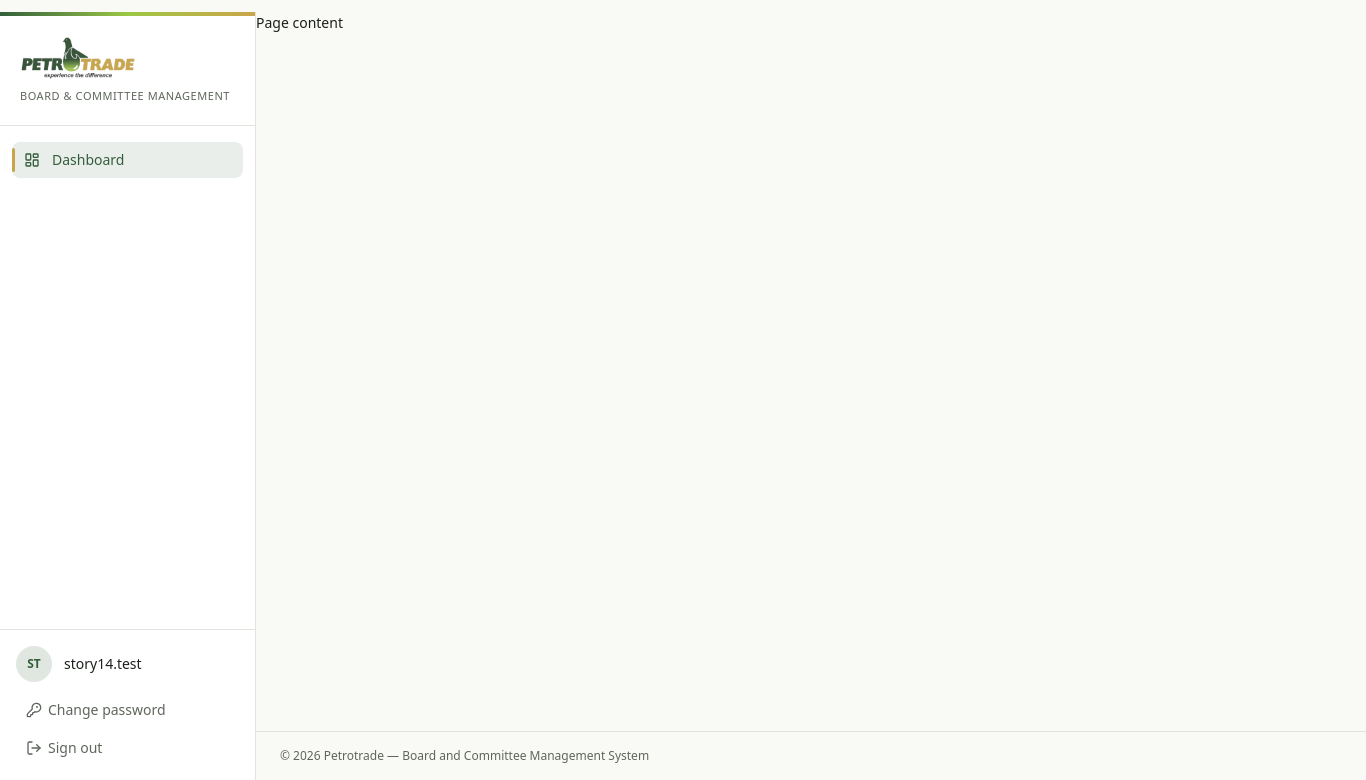
Test: AppShell › disables both buttons while a change-password redirect is in flight, and ignores a second click
The image size is (1366, 780).
Later steps or results of the test are not shown.
Click the button "Change password": {"x": 128, "y": 710} [16, 694, 239, 726]
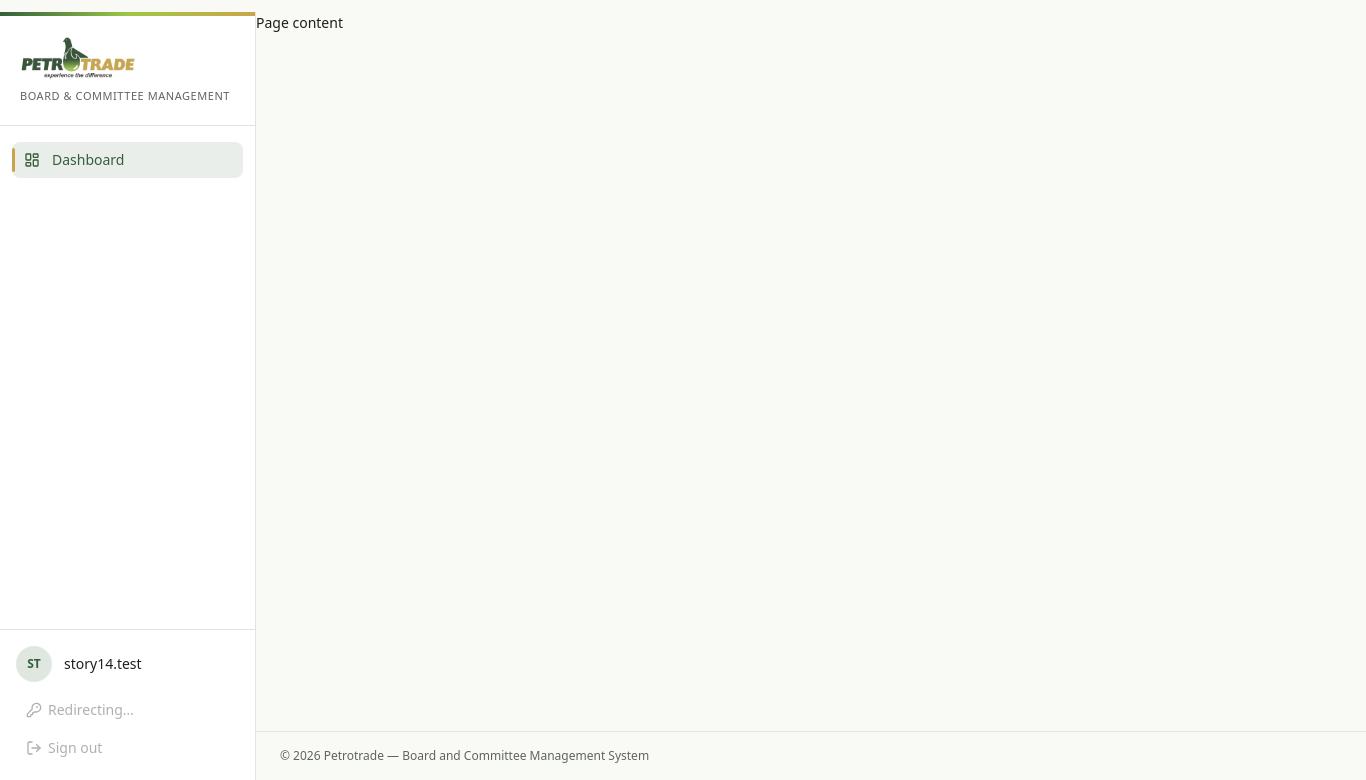
Now the button named "Change password" is disabled, box [16, 694, 239, 726]
Now the button "Sign out" is disabled, box [16, 732, 239, 764]
